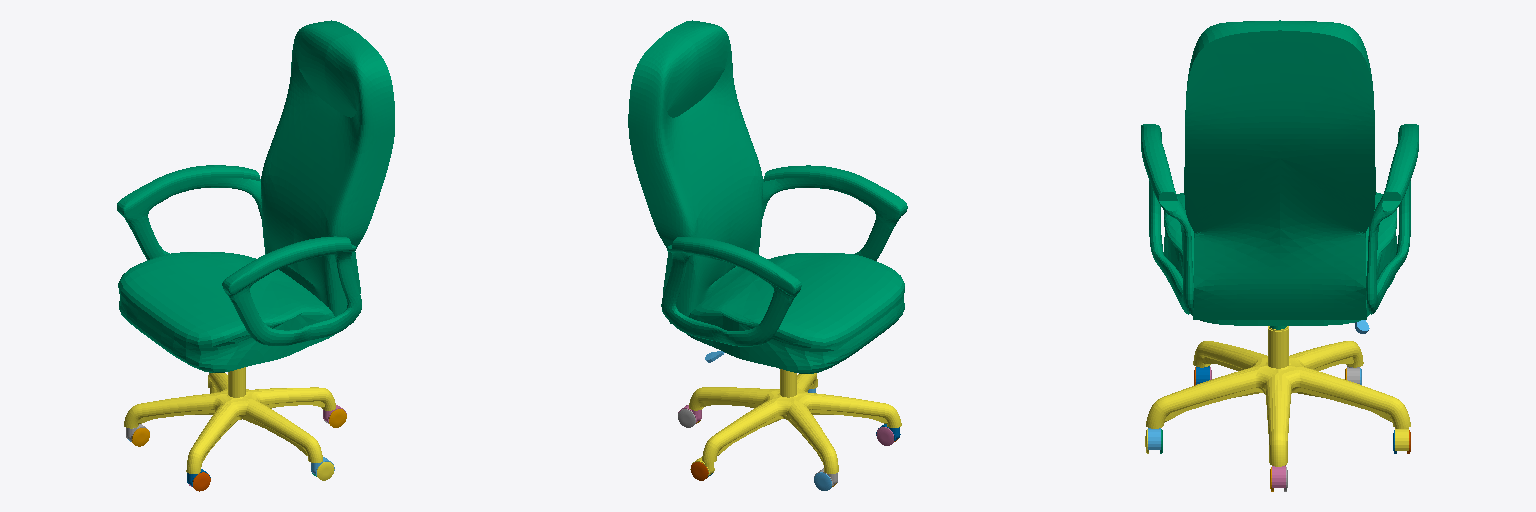
robot.urdf — partnet_7eaf212097293229fd3456bfc7553c94:
<?xml version="1.0" ?>
<robot name="partnet_7eaf212097293229fd3456bfc7553c94">
	<link name="base"/>
	<link name="link_0">
		<visual name="lever-40">
			<origin xyz="0.01638226315379143 0.3087243074279856 0"/>
			<geometry>
				<mesh filename="textured_objs/original-4.obj"/>
			</geometry>
		</visual>
		<visual name="lever-40">
			<origin xyz="0.01638226315379143 0.3087243074279856 0"/>
			<geometry>
				<mesh filename="textured_objs/original-3.obj"/>
			</geometry>
		</visual>
		<collision>
			<origin xyz="0.01638226315379143 0.3087243074279856 0"/>
			<geometry>
				<mesh filename="textured_objs/original-4.obj"/>
			</geometry>
		</collision>
		<collision>
			<origin xyz="0.01638226315379143 0.3087243074279856 0"/>
			<geometry>
				<mesh filename="textured_objs/original-3.obj"/>
			</geometry>
		</collision>
	</link>
	<joint name="joint_0" type="revolute">
		<origin xyz="-0.019474731590488813 -0.3087243074279856 -0.1601520396411574"/>
		<axis xyz="0 0 1"/>
		<child link="link_0"/>
		<parent link="link_17"/>
		<limit lower="0.0" upper="0.27017696820872217"/>
	</joint>
	<link name="link_1">
		<visual name="knob-41">
			<origin xyz="0.004240464824702992 -0.03404987679122426 -0.19300801038325405"/>
			<geometry>
				<mesh filename="textured_objs/original-40.obj"/>
			</geometry>
		</visual>
		<collision>
			<origin xyz="0.004240464824702992 -0.03404987679122426 -0.19300801038325405"/>
			<geometry>
				<mesh filename="textured_objs/original-40.obj"/>
			</geometry>
		</collision>
	</link>
	<joint name="joint_1" type="continuous">
		<origin xyz="-0.007332933261400375 0.03404987679122426 0.032855970742096646"/>
		<axis xyz="-5.7221703244016534e-05 0.9847923906468601 -0.17373527002229266"/>
		<child link="link_1"/>
		<parent link="link_17"/>
	</joint>
	<link name="link_2">
		<visual name="caster_yoke-37">
			<origin xyz="0.4109760163604021 0 -0.029821438934100997"/>
			<geometry>
				<mesh filename="textured_objs/original-8.obj"/>
			</geometry>
		</visual>
		<collision>
			<origin xyz="0.4109760163604021 0 -0.029821438934100997"/>
			<geometry>
				<mesh filename="textured_objs/original-8.obj"/>
			</geometry>
		</collision>
	</link>
	<joint name="joint_2" type="continuous">
		<origin xyz="-0.4109760163604021 0 0.029821438934100997"/>
		<axis xyz="0 1 0"/>
		<child link="link_2"/>
		<parent link="link_18"/>
	</joint>
	<link name="link_3">
		<visual name="wheel-38">
			<origin xyz="0 0.8117528426753511 0.004365204991788402"/>
			<geometry>
				<mesh filename="textured_objs/original-10.obj"/>
			</geometry>
		</visual>
		<collision>
			<origin xyz="0 0.8117528426753511 0.004365204991788402"/>
			<geometry>
				<mesh filename="textured_objs/original-10.obj"/>
			</geometry>
		</collision>
	</link>
	<joint name="joint_3" type="continuous">
		<origin xyz="0.4109760163604021 -0.8117528426753511 -0.034186643925889396"/>
		<axis xyz="-1 0 0"/>
		<child link="link_3"/>
		<parent link="link_2"/>
	</joint>
	<link name="link_4">
		<visual name="wheel-39">
			<origin xyz="0 0.8117528426753511 0.004365204991788402"/>
			<geometry>
				<mesh filename="textured_objs/original-11.obj"/>
			</geometry>
		</visual>
		<collision>
			<origin xyz="0 0.8117528426753511 0.004365204991788402"/>
			<geometry>
				<mesh filename="textured_objs/original-11.obj"/>
			</geometry>
		</collision>
	</link>
	<joint name="joint_4" type="continuous">
		<origin xyz="0.4109760163604021 -0.8117528426753511 -0.034186643925889396"/>
		<axis xyz="-1 0 0"/>
		<child link="link_4"/>
		<parent link="link_2"/>
	</joint>
	<link name="link_5">
		<visual name="caster_yoke-34">
			<origin xyz="-0.003734983786463737 0 0.2695848207415639"/>
			<geometry>
				<mesh filename="textured_objs/original-28.obj"/>
			</geometry>
		</visual>
		<collision>
			<origin xyz="-0.003734983786463737 0 0.2695848207415639"/>
			<geometry>
				<mesh filename="textured_objs/original-28.obj"/>
			</geometry>
		</collision>
	</link>
	<joint name="joint_5" type="continuous">
		<origin xyz="0.003734983786463737 0 -0.2695848207415639"/>
		<axis xyz="0 1 0"/>
		<child link="link_5"/>
		<parent link="link_18"/>
	</joint>
	<link name="link_6">
		<visual name="wheel-35">
			<origin xyz="0 0.8098480609708484 0.3003343854576705"/>
			<geometry>
				<mesh filename="textured_objs/original-31.obj"/>
			</geometry>
		</visual>
		<collision>
			<origin xyz="0 0.8098480609708484 0.3003343854576705"/>
			<geometry>
				<mesh filename="textured_objs/original-31.obj"/>
			</geometry>
		</collision>
	</link>
	<joint name="joint_6" type="continuous">
		<origin xyz="-0.003734983786463737 -0.8098480609708484 -0.03074956471610657"/>
		<axis xyz="-1 0 0"/>
		<child link="link_6"/>
		<parent link="link_5"/>
	</joint>
	<link name="link_7">
		<visual name="wheel-36">
			<origin xyz="0 0.8098480609708484 0.3003343854576705"/>
			<geometry>
				<mesh filename="textured_objs/original-30.obj"/>
			</geometry>
		</visual>
		<collision>
			<origin xyz="0 0.8098480609708484 0.3003343854576705"/>
			<geometry>
				<mesh filename="textured_objs/original-30.obj"/>
			</geometry>
		</collision>
	</link>
	<joint name="joint_7" type="continuous">
		<origin xyz="-0.003734983786463737 -0.8098480609708484 -0.03074956471610657"/>
		<axis xyz="-1 0 0"/>
		<child link="link_7"/>
		<parent link="link_5"/>
	</joint>
	<link name="link_8">
		<visual name="caster_yoke-31">
			<origin xyz="-0.4150677405015231 0 -0.02713694508942962"/>
			<geometry>
				<mesh filename="textured_objs/original-33.obj"/>
			</geometry>
		</visual>
		<collision>
			<origin xyz="-0.4150677405015231 0 -0.02713694508942962"/>
			<geometry>
				<mesh filename="textured_objs/original-33.obj"/>
			</geometry>
		</collision>
	</link>
	<joint name="joint_8" type="continuous">
		<origin xyz="0.4150677405015231 0 0.02713694508942962"/>
		<axis xyz="0 1 0"/>
		<child link="link_8"/>
		<parent link="link_18"/>
	</joint>
	<link name="link_9">
		<visual name="wheel-32">
			<origin xyz="0 0.8098479390291516 0.0037316145423295696"/>
			<geometry>
				<mesh filename="textured_objs/original-36.obj"/>
			</geometry>
		</visual>
		<collision>
			<origin xyz="0 0.8098479390291516 0.0037316145423295696"/>
			<geometry>
				<mesh filename="textured_objs/original-36.obj"/>
			</geometry>
		</collision>
	</link>
	<joint name="joint_9" type="continuous">
		<origin xyz="-0.4150677405015231 -0.8098479390291516 -0.03086855963175919"/>
		<axis xyz="-1 0 0"/>
		<child link="link_9"/>
		<parent link="link_8"/>
	</joint>
	<link name="link_10">
		<visual name="wheel-33">
			<origin xyz="0 0.8098479390291516 0.0037316145423295696"/>
			<geometry>
				<mesh filename="textured_objs/original-35.obj"/>
			</geometry>
		</visual>
		<collision>
			<origin xyz="0 0.8098479390291516 0.0037316145423295696"/>
			<geometry>
				<mesh filename="textured_objs/original-35.obj"/>
			</geometry>
		</collision>
	</link>
	<joint name="joint_10" type="continuous">
		<origin xyz="-0.4150677405015231 -0.8098479390291516 -0.03086855963175919"/>
		<axis xyz="-1 0 0"/>
		<child link="link_10"/>
		<parent link="link_8"/>
	</joint>
	<link name="link_11">
		<visual name="caster_yoke-28">
			<origin xyz="-0.25393888603769244 0 -0.514514838298887"/>
			<geometry>
				<mesh filename="textured_objs/original-23.obj"/>
			</geometry>
		</visual>
		<collision>
			<origin xyz="-0.25393888603769244 0 -0.514514838298887"/>
			<geometry>
				<mesh filename="textured_objs/original-23.obj"/>
			</geometry>
		</collision>
	</link>
	<joint name="joint_11" type="continuous">
		<origin xyz="0.25393888603769244 0 0.514514838298887"/>
		<axis xyz="0 1 0"/>
		<child link="link_11"/>
		<parent link="link_18"/>
	</joint>
	<link name="link_12">
		<visual name="wheel-29">
			<origin xyz="0 0.8098479390291516 -0.4836433854576705"/>
			<geometry>
				<mesh filename="textured_objs/original-25.obj"/>
			</geometry>
		</visual>
		<collision>
			<origin xyz="0 0.8098479390291516 -0.4836433854576705"/>
			<geometry>
				<mesh filename="textured_objs/original-25.obj"/>
			</geometry>
		</collision>
	</link>
	<joint name="joint_12" type="continuous">
		<origin xyz="-0.25393888603769244 -0.8098479390291516 -0.030871452841216507"/>
		<axis xyz="1 0 0"/>
		<child link="link_12"/>
		<parent link="link_11"/>
	</joint>
	<link name="link_13">
		<visual name="wheel-30">
			<origin xyz="0 0.8098479390291516 -0.4836433854576705"/>
			<geometry>
				<mesh filename="textured_objs/original-26.obj"/>
			</geometry>
		</visual>
		<collision>
			<origin xyz="0 0.8098479390291516 -0.4836433854576705"/>
			<geometry>
				<mesh filename="textured_objs/original-26.obj"/>
			</geometry>
		</collision>
	</link>
	<joint name="joint_13" type="continuous">
		<origin xyz="-0.25393888603769244 -0.8098479390291516 -0.030871452841216507"/>
		<axis xyz="1 0 0"/>
		<child link="link_13"/>
		<parent link="link_11"/>
	</joint>
	<link name="link_14">
		<visual name="caster_yoke-25">
			<origin xyz="0.2480326107549667 0 -0.5106440351445807"/>
			<geometry>
				<mesh filename="textured_objs/original-18.obj"/>
			</geometry>
		</visual>
		<collision>
			<origin xyz="0.2480326107549667 0 -0.5106440351445807"/>
			<geometry>
				<mesh filename="textured_objs/original-18.obj"/>
			</geometry>
		</collision>
	</link>
	<joint name="joint_14" type="continuous">
		<origin xyz="-0.2480326107549667 0 0.5106440351445807"/>
		<axis xyz="0 1 0"/>
		<child link="link_14"/>
		<parent link="link_18"/>
	</joint>
	<link name="link_15">
		<visual name="wheel-26">
			<origin xyz="0 0.8117528426753511 -0.47985379500821157"/>
			<geometry>
				<mesh filename="textured_objs/original-20.obj"/>
			</geometry>
		</visual>
		<collision>
			<origin xyz="0 0.8117528426753511 -0.47985379500821157"/>
			<geometry>
				<mesh filename="textured_objs/original-20.obj"/>
			</geometry>
		</collision>
	</link>
	<joint name="joint_15" type="continuous">
		<origin xyz="0.2480326107549667 -0.8117528426753511 -0.030790240136369107"/>
		<axis xyz="1 0 0"/>
		<child link="link_15"/>
		<parent link="link_14"/>
	</joint>
	<link name="link_16">
		<visual name="wheel-27">
			<origin xyz="0 0.8117528426753511 -0.47985379500821157"/>
			<geometry>
				<mesh filename="textured_objs/original-21.obj"/>
			</geometry>
		</visual>
		<collision>
			<origin xyz="0 0.8117528426753511 -0.47985379500821157"/>
			<geometry>
				<mesh filename="textured_objs/original-21.obj"/>
			</geometry>
		</collision>
	</link>
	<joint name="joint_16" type="continuous">
		<origin xyz="0.2480326107549667 -0.8117528426753511 -0.030790240136369107"/>
		<axis xyz="1 0 0"/>
		<child link="link_16"/>
		<parent link="link_14"/>
	</joint>
	<link name="link_17">
		<visual name="back_soft_surface-54">
			<origin xyz="-0.003092468436697383 0 -0.1601520396411574"/>
			<geometry>
				<mesh filename="textured_objs/original-41.obj"/>
			</geometry>
		</visual>
		<visual name="seat_soft_surface-47">
			<origin xyz="-0.003092468436697383 0 -0.1601520396411574"/>
			<geometry>
				<mesh filename="textured_objs/original-49.obj"/>
			</geometry>
		</visual>
		<visual name="armrest_soft_surface-51">
			<origin xyz="-0.003092468436697383 0 -0.1601520396411574"/>
			<geometry>
				<mesh filename="textured_objs/original-45.obj"/>
			</geometry>
		</visual>
		<visual name="arm_holistic_frame-52">
			<origin xyz="-0.003092468436697383 0 -0.1601520396411574"/>
			<geometry>
				<mesh filename="textured_objs/original-44.obj"/>
			</geometry>
		</visual>
		<visual name="armrest_soft_surface-49">
			<origin xyz="-0.003092468436697383 0 -0.1601520396411574"/>
			<geometry>
				<mesh filename="textured_objs/original-48.obj"/>
			</geometry>
		</visual>
		<visual name="arm_holistic_frame-50">
			<origin xyz="-0.003092468436697383 0 -0.1601520396411574"/>
			<geometry>
				<mesh filename="textured_objs/original-47.obj"/>
			</geometry>
		</visual>
		<visual name="central_support-43">
			<origin xyz="-0.003092468436697383 0 -0.1601520396411574"/>
			<geometry>
				<mesh filename="textured_objs/original-50.obj"/>
			</geometry>
		</visual>
		<visual name="mounting_plate-42">
			<origin xyz="-0.003092468436697383 0 -0.1601520396411574"/>
			<geometry>
				<mesh filename="textured_objs/original-51.obj"/>
			</geometry>
		</visual>
		<visual name="mounting_plate-42">
			<origin xyz="-0.003092468436697383 0 -0.1601520396411574"/>
			<geometry>
				<mesh filename="textured_objs/original-5.obj"/>
			</geometry>
		</visual>
		<collision>
			<origin xyz="-0.003092468436697383 0 -0.1601520396411574"/>
			<geometry>
				<mesh filename="textured_objs/original-41.obj"/>
			</geometry>
		</collision>
		<collision>
			<origin xyz="-0.003092468436697383 0 -0.1601520396411574"/>
			<geometry>
				<mesh filename="textured_objs/original-49.obj"/>
			</geometry>
		</collision>
		<collision>
			<origin xyz="-0.003092468436697383 0 -0.1601520396411574"/>
			<geometry>
				<mesh filename="textured_objs/original-45.obj"/>
			</geometry>
		</collision>
		<collision>
			<origin xyz="-0.003092468436697383 0 -0.1601520396411574"/>
			<geometry>
				<mesh filename="textured_objs/original-44.obj"/>
			</geometry>
		</collision>
		<collision>
			<origin xyz="-0.003092468436697383 0 -0.1601520396411574"/>
			<geometry>
				<mesh filename="textured_objs/original-48.obj"/>
			</geometry>
		</collision>
		<collision>
			<origin xyz="-0.003092468436697383 0 -0.1601520396411574"/>
			<geometry>
				<mesh filename="textured_objs/original-47.obj"/>
			</geometry>
		</collision>
		<collision>
			<origin xyz="-0.003092468436697383 0 -0.1601520396411574"/>
			<geometry>
				<mesh filename="textured_objs/original-50.obj"/>
			</geometry>
		</collision>
		<collision>
			<origin xyz="-0.003092468436697383 0 -0.1601520396411574"/>
			<geometry>
				<mesh filename="textured_objs/original-51.obj"/>
			</geometry>
		</collision>
		<collision>
			<origin xyz="-0.003092468436697383 0 -0.1601520396411574"/>
			<geometry>
				<mesh filename="textured_objs/original-5.obj"/>
			</geometry>
		</collision>
	</link>
	<joint name="joint_17" type="continuous">
		<origin xyz="0.0 0 0.0"/>
		<axis xyz="0 -1 0"/>
		<child link="link_17"/>
		<parent link="link_17_helper"/>
	</joint>
	<link name="link_18">
		<visual name="central_support-44">
			<origin xyz="0 0 0"/>
			<geometry>
				<mesh filename="textured_objs/original-37.obj"/>
			</geometry>
		</visual>
		<visual name="central_support-45">
			<origin xyz="0 0 0"/>
			<geometry>
				<mesh filename="textured_objs/original-38.obj"/>
			</geometry>
		</visual>
		<visual name="leg-10">
			<origin xyz="0 0 0"/>
			<geometry>
				<mesh filename="textured_objs/original-12.obj"/>
			</geometry>
		</visual>
		<visual name="leg-11">
			<origin xyz="0 0 0"/>
			<geometry>
				<mesh filename="textured_objs/original-13.obj"/>
			</geometry>
		</visual>
		<visual name="leg-12">
			<origin xyz="0 0 0"/>
			<geometry>
				<mesh filename="textured_objs/original-14.obj"/>
			</geometry>
		</visual>
		<visual name="leg-13">
			<origin xyz="0 0 0"/>
			<geometry>
				<mesh filename="textured_objs/original-15.obj"/>
			</geometry>
		</visual>
		<visual name="leg-14">
			<origin xyz="0 0 0"/>
			<geometry>
				<mesh filename="textured_objs/original-16.obj"/>
			</geometry>
		</visual>
		<collision>
			<origin xyz="0 0 0"/>
			<geometry>
				<mesh filename="textured_objs/original-37.obj"/>
			</geometry>
		</collision>
		<collision>
			<origin xyz="0 0 0"/>
			<geometry>
				<mesh filename="textured_objs/original-38.obj"/>
			</geometry>
		</collision>
		<collision>
			<origin xyz="0 0 0"/>
			<geometry>
				<mesh filename="textured_objs/original-12.obj"/>
			</geometry>
		</collision>
		<collision>
			<origin xyz="0 0 0"/>
			<geometry>
				<mesh filename="textured_objs/original-13.obj"/>
			</geometry>
		</collision>
		<collision>
			<origin xyz="0 0 0"/>
			<geometry>
				<mesh filename="textured_objs/original-14.obj"/>
			</geometry>
		</collision>
		<collision>
			<origin xyz="0 0 0"/>
			<geometry>
				<mesh filename="textured_objs/original-15.obj"/>
			</geometry>
		</collision>
		<collision>
			<origin xyz="0 0 0"/>
			<geometry>
				<mesh filename="textured_objs/original-16.obj"/>
			</geometry>
		</collision>
	</link>
	<joint name="joint_18" type="fixed">
		<origin rpy="1.570796326794897 0 -1.570796326794897" xyz="0 0 0"/>
		<child link="link_18"/>
		<parent link="base"/>
	</joint>
	<link name="link_17_helper"/>
	<joint name="joint_19" type="prismatic">
		<origin xyz="0.003092468436697383 0 0.1601520396411574"/>
		<axis xyz="0 -1 0"/>
		<child link="link_17_helper"/>
		<parent link="link_18"/>
		<limit lower="0" upper="0.1200000000000001"/>
	</joint>
</robot>

--- Render facts (derived) ---
Views: 3 orthographic renders of the robot side by side, from view 1: azimuth 30°, elevation 25°; view 2: azimuth 150°, elevation 25°; view 3: azimuth 270°, elevation 25°.
Robot: partnet_7eaf212097293229fd3456bfc7553c94 — 21 links, 20 joints (1 revolute, 17 continuous, 1 prismatic, 1 fixed); root link base; default pose: every joint at zero.
Links seen in each view (by area): view 1: link_17, link_18; view 2: link_17, link_18; view 3: link_17, link_18.
Boxes of the visible links, bbox=[...] form: link_17: bbox=[117, 20, 394, 372]; link_18: bbox=[124, 367, 335, 473]; link_17: bbox=[628, 20, 907, 373]; link_18: bbox=[689, 369, 901, 473]; link_17: bbox=[1141, 20, 1418, 329]; link_18: bbox=[1146, 326, 1410, 466].
Size in the robot's own frame: 0.9757 by 0.9271 by 1.74 metres.
34 mesh visuals loaded from 34 distinct referenced files (34 OBJ).
